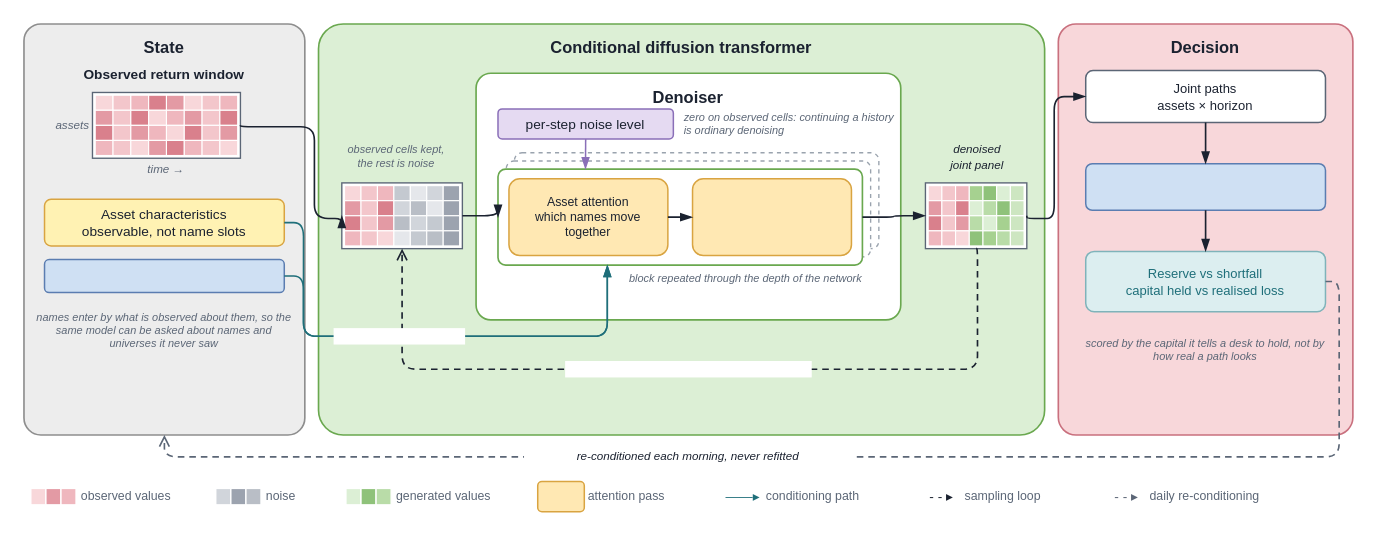
Image size: 1378x537. Some labels were removed from this diagram. Each missing label, with the centre of its shape:
conditions every block: the point at 398,335
Market context: the point at 163,275
repeated over the denoising steps: the point at 687,368
Revalue the book: the point at 1205,186
Time attention how a path unfolds: the point at 771,216
